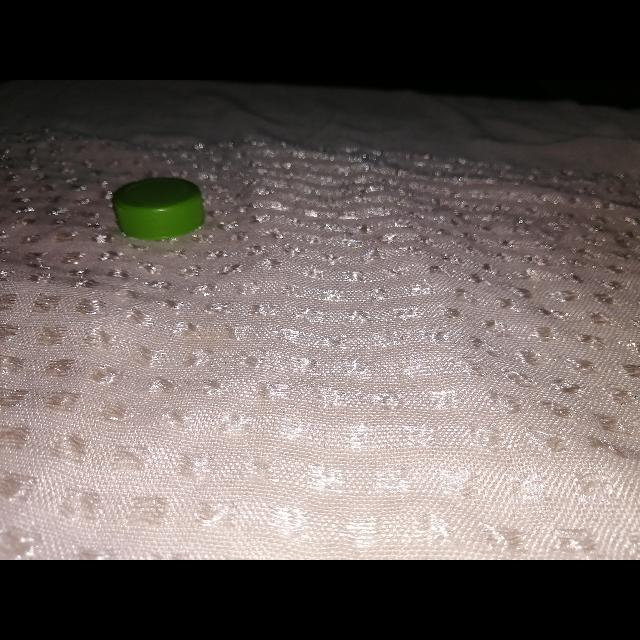plastic_bottle_cap: (112, 176, 206, 242)
